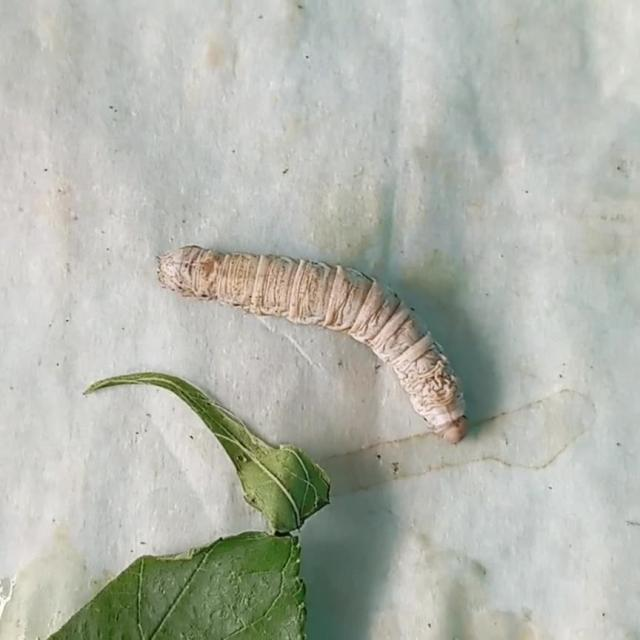Grasserie: (141, 211, 493, 470)
